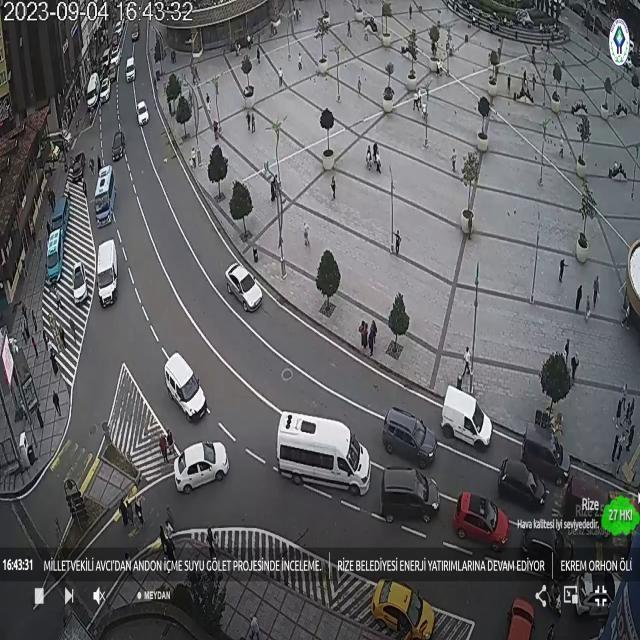Bus: (93, 164, 116, 228)
Car: (369, 577, 435, 640), (378, 467, 442, 522), (381, 406, 438, 467), (453, 491, 510, 550), (440, 388, 492, 450), (521, 422, 571, 486), (164, 352, 208, 422), (172, 440, 228, 493), (522, 528, 575, 580), (497, 458, 545, 508), (223, 260, 264, 314), (71, 260, 89, 304), (111, 132, 126, 161), (136, 100, 150, 126), (99, 78, 112, 104), (125, 57, 136, 82)
Van: (276, 413, 369, 495), (96, 241, 120, 308), (46, 229, 65, 282), (51, 196, 69, 236), (86, 73, 100, 110)
